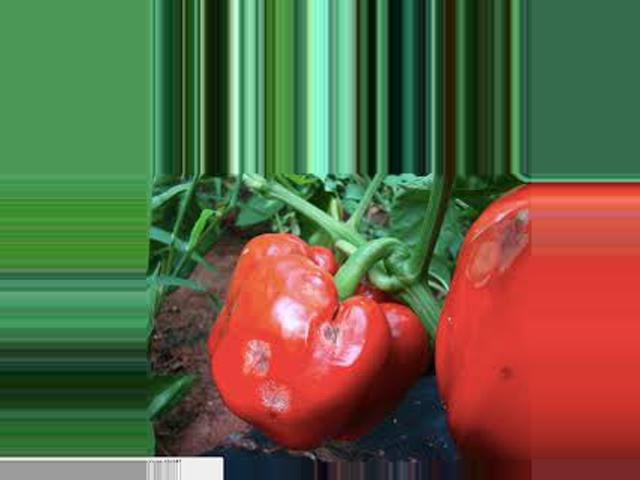bell_pepper: (217, 212, 424, 461)
